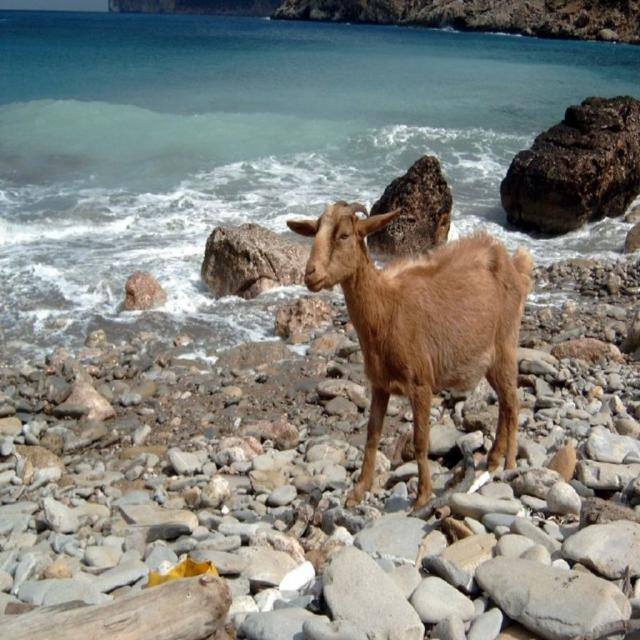Goat: (285, 199, 537, 509)
